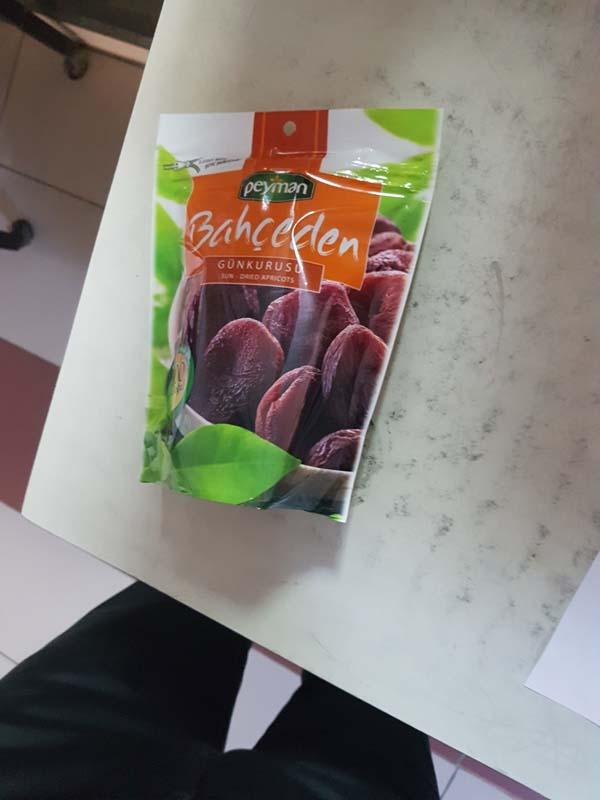bahcedengunkurusu: (146, 98, 448, 556)
